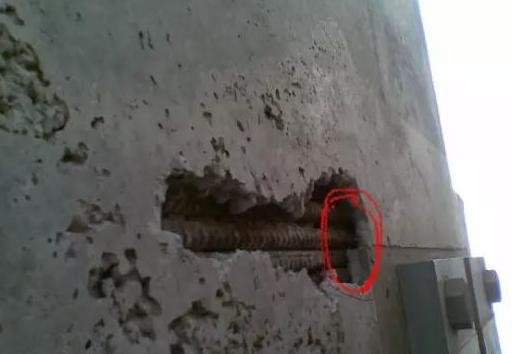Exposed reinforcement: (161, 219, 357, 249), (268, 249, 347, 272), (304, 200, 356, 226), (323, 268, 353, 282)
Spalling: (1, 1, 376, 354), (159, 165, 376, 294)
